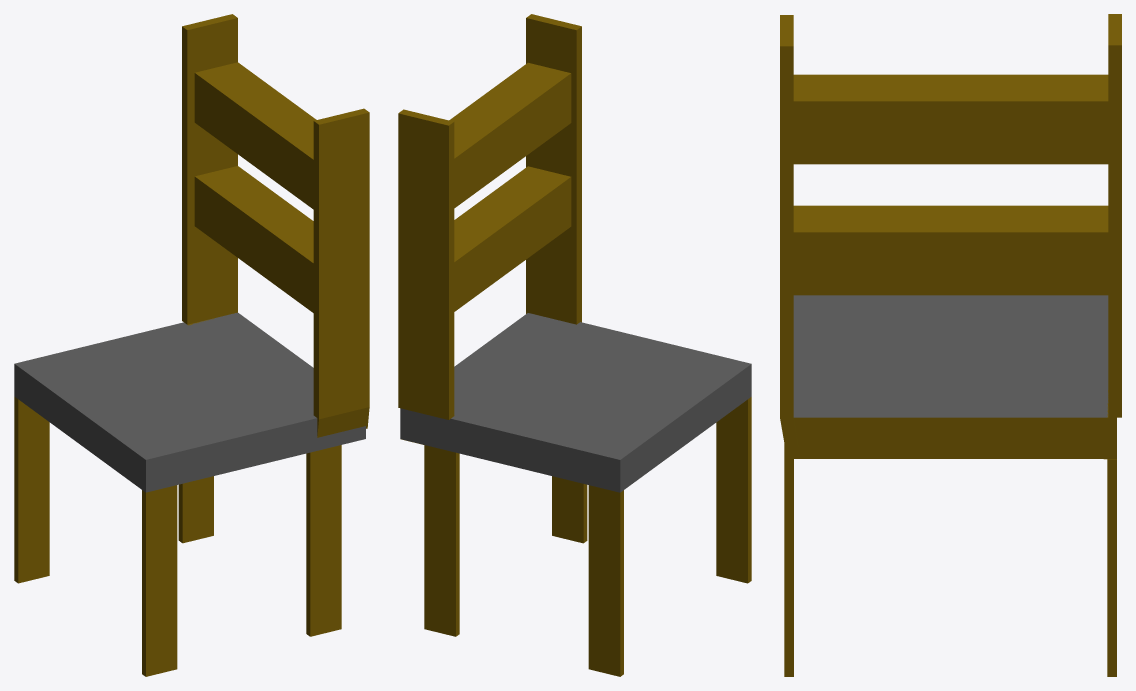
The model's file is CHAIR.001_Material.047.glb.
3 views of the same model, side by side, from view 1: azimuth 30°, elevation 25°; view 2: azimuth 150°, elevation 25°; view 3: azimuth 270°, elevation 25° (orthographic). The views are drawn at different scales.
Parts seen in each view (by area): view 1: CHAIR.001_Material.047_0; view 2: CHAIR.001_Material.047_0; view 3: CHAIR.001_Material.047_0.
Boxes of the visible parts, x1,y1,x2,y2 form: CHAIR.001_Material.047_0: (14, 14, 369, 676); CHAIR.001_Material.047_0: (398, 14, 751, 676); CHAIR.001_Material.047_0: (780, 14, 1121, 676).
Bounding box in the file's own units: 0.1072 × 0.2359 × 0.113.
Materials: 1 (1 with a texture image).
